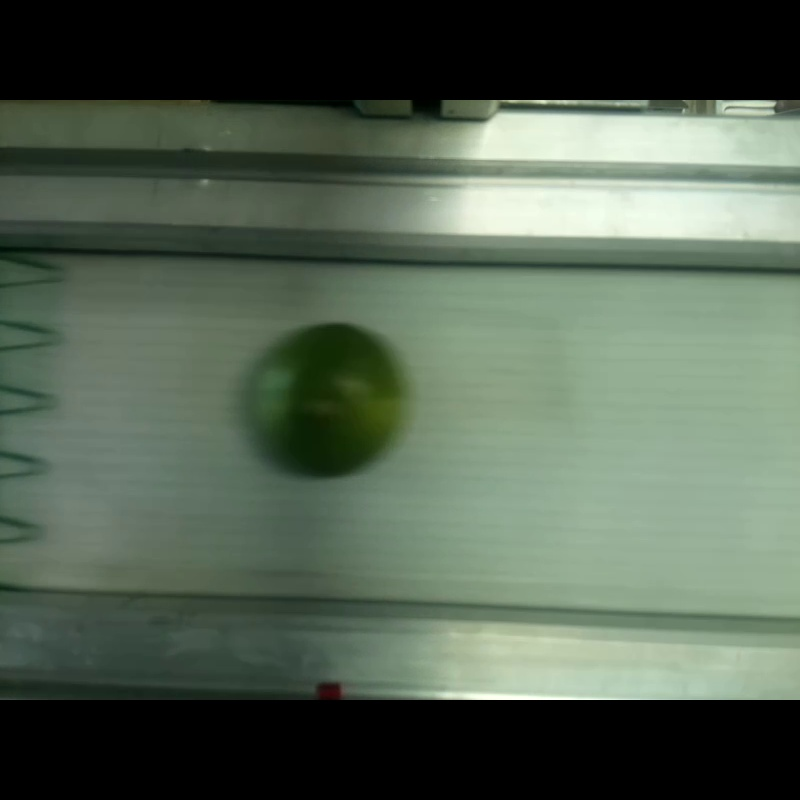lime: (254, 326, 402, 477)
